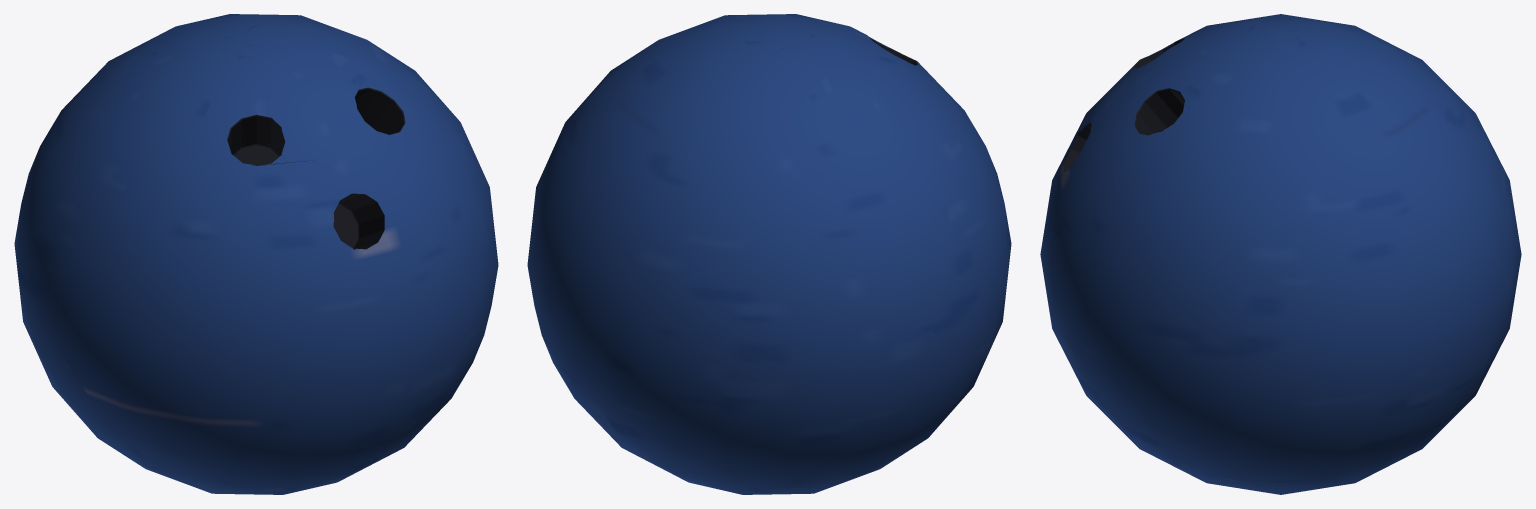
The model's file is bowling_ball_cobalt.glb.
The picture shows the model from 3 angles, left to right: view 1: azimuth 30°, elevation 25°; view 2: azimuth 150°, elevation 25°; view 3: azimuth 270°, elevation 25°; orthographic projection.
Visible parts, largest first — view 1: arcade_bowling_ball_cobalt; view 2: arcade_bowling_ball_cobalt; view 3: arcade_bowling_ball_cobalt.
Boxes of the visible parts, x1,y1,x2,y2 form: arcade_bowling_ball_cobalt: (14, 14, 498, 494); arcade_bowling_ball_cobalt: (527, 14, 1011, 494); arcade_bowling_ball_cobalt: (1040, 14, 1521, 494).
Size of the model in its own units: 0.216 by 0.216 by 0.216.
1 material, 1 textured.
